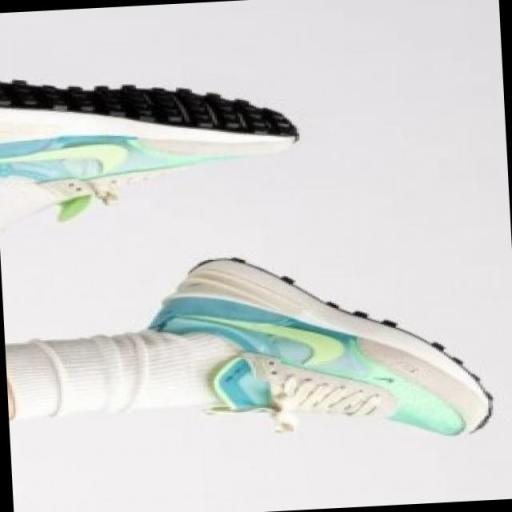Nike: (172, 301, 346, 380)
